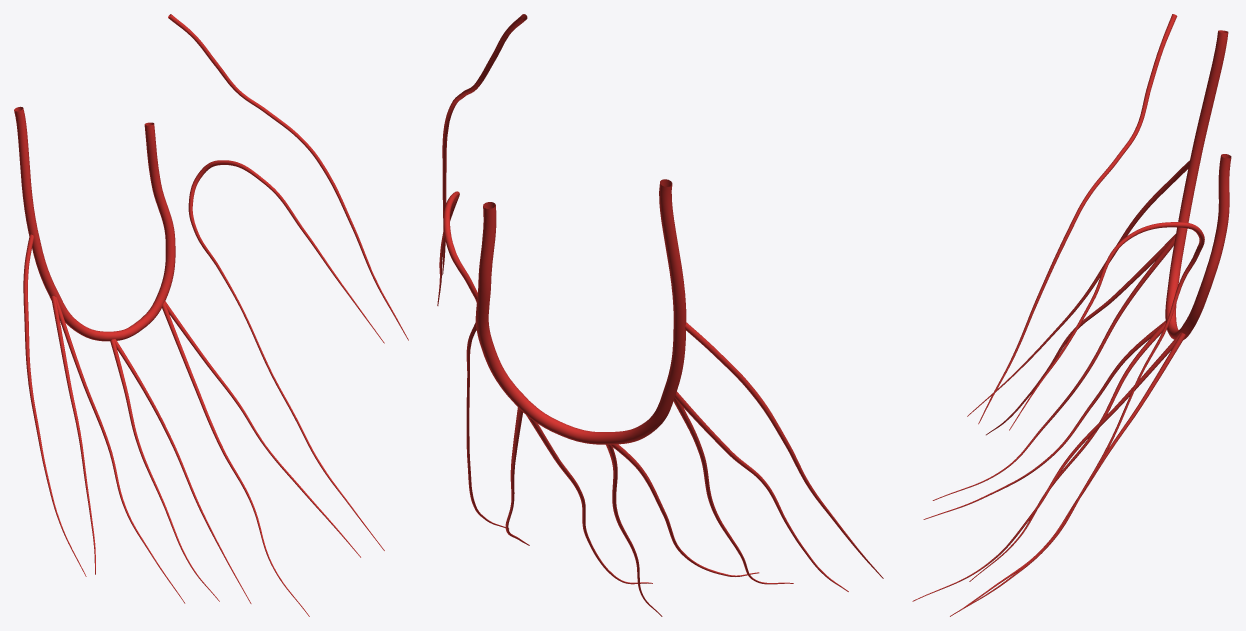
File: circulatorio-dorsal-venous-network-of-hand-l.glb
3 views of the same model, side by side, from view 1: azimuth 30°, elevation 25°; view 2: azimuth 150°, elevation 25°; view 3: azimuth 270°, elevation 25° (orthographic). The views are drawn at different scales.
Visible parts, largest first — view 1: Dorsal digital veins of hand.l, Dorsal venous network of hand.l; view 2: Dorsal digital veins of hand.l, Dorsal venous network of hand.l; view 3: Dorsal digital veins of hand.l, Dorsal venous network of hand.l.
Part boxes in pixels (x1,y1,x2,y2): Dorsal digital veins of hand.l: [23, 14, 408, 616]; Dorsal venous network of hand.l: [14, 106, 175, 341]; Dorsal digital veins of hand.l: [437, 14, 883, 616]; Dorsal venous network of hand.l: [475, 179, 686, 444]; Dorsal digital veins of hand.l: [912, 14, 1204, 616]; Dorsal venous network of hand.l: [1165, 30, 1231, 339].
Size of the model in its own units: 0.1062 by 0.1592 by 0.0799.
